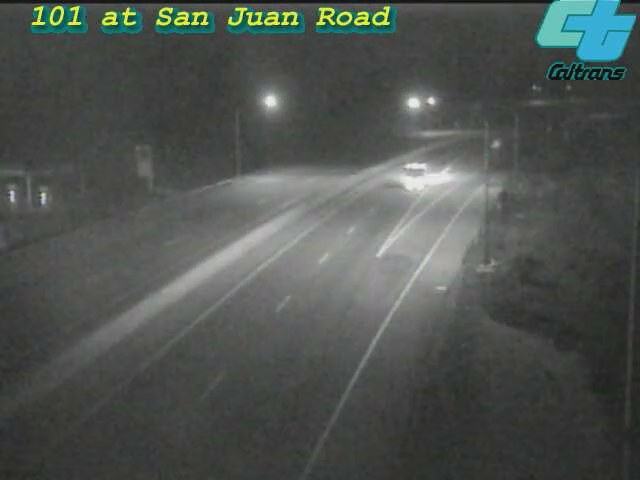vehicle: (374, 135, 454, 215)
